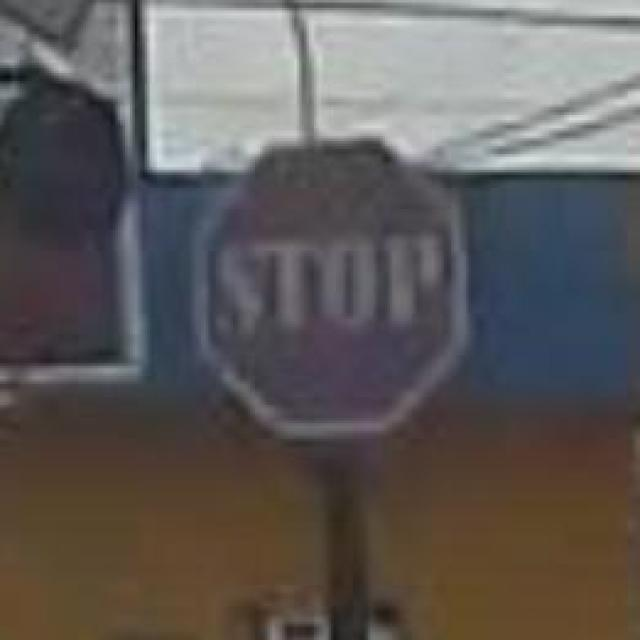traffic sign: (201, 149, 464, 434)
